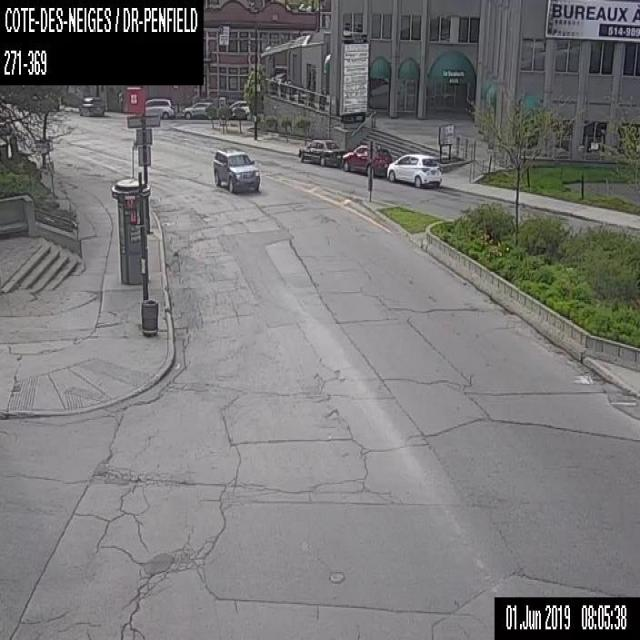vehicle: (212, 146, 260, 191), (387, 152, 441, 187), (342, 143, 392, 175), (297, 136, 345, 166), (144, 95, 174, 118), (181, 100, 215, 120), (78, 93, 105, 116), (229, 97, 249, 116)
